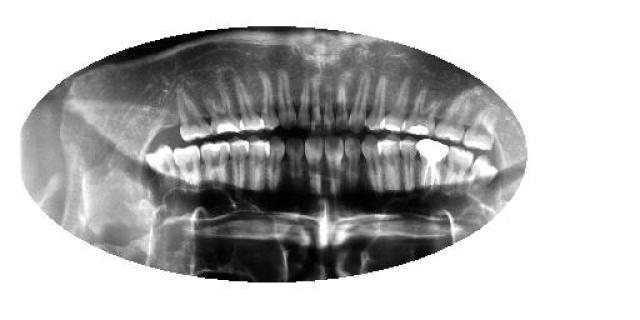Fillings: (402, 85, 442, 136), (202, 91, 242, 138)
Implant: (415, 138, 449, 194)
